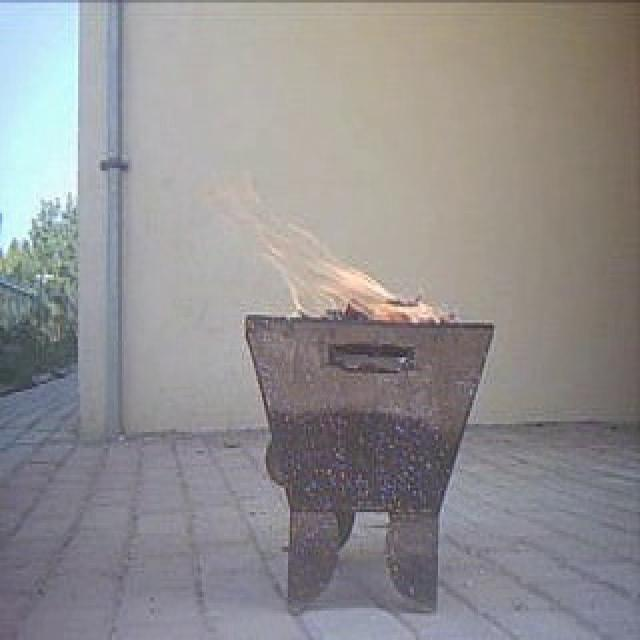fire: (255, 200, 371, 312)
